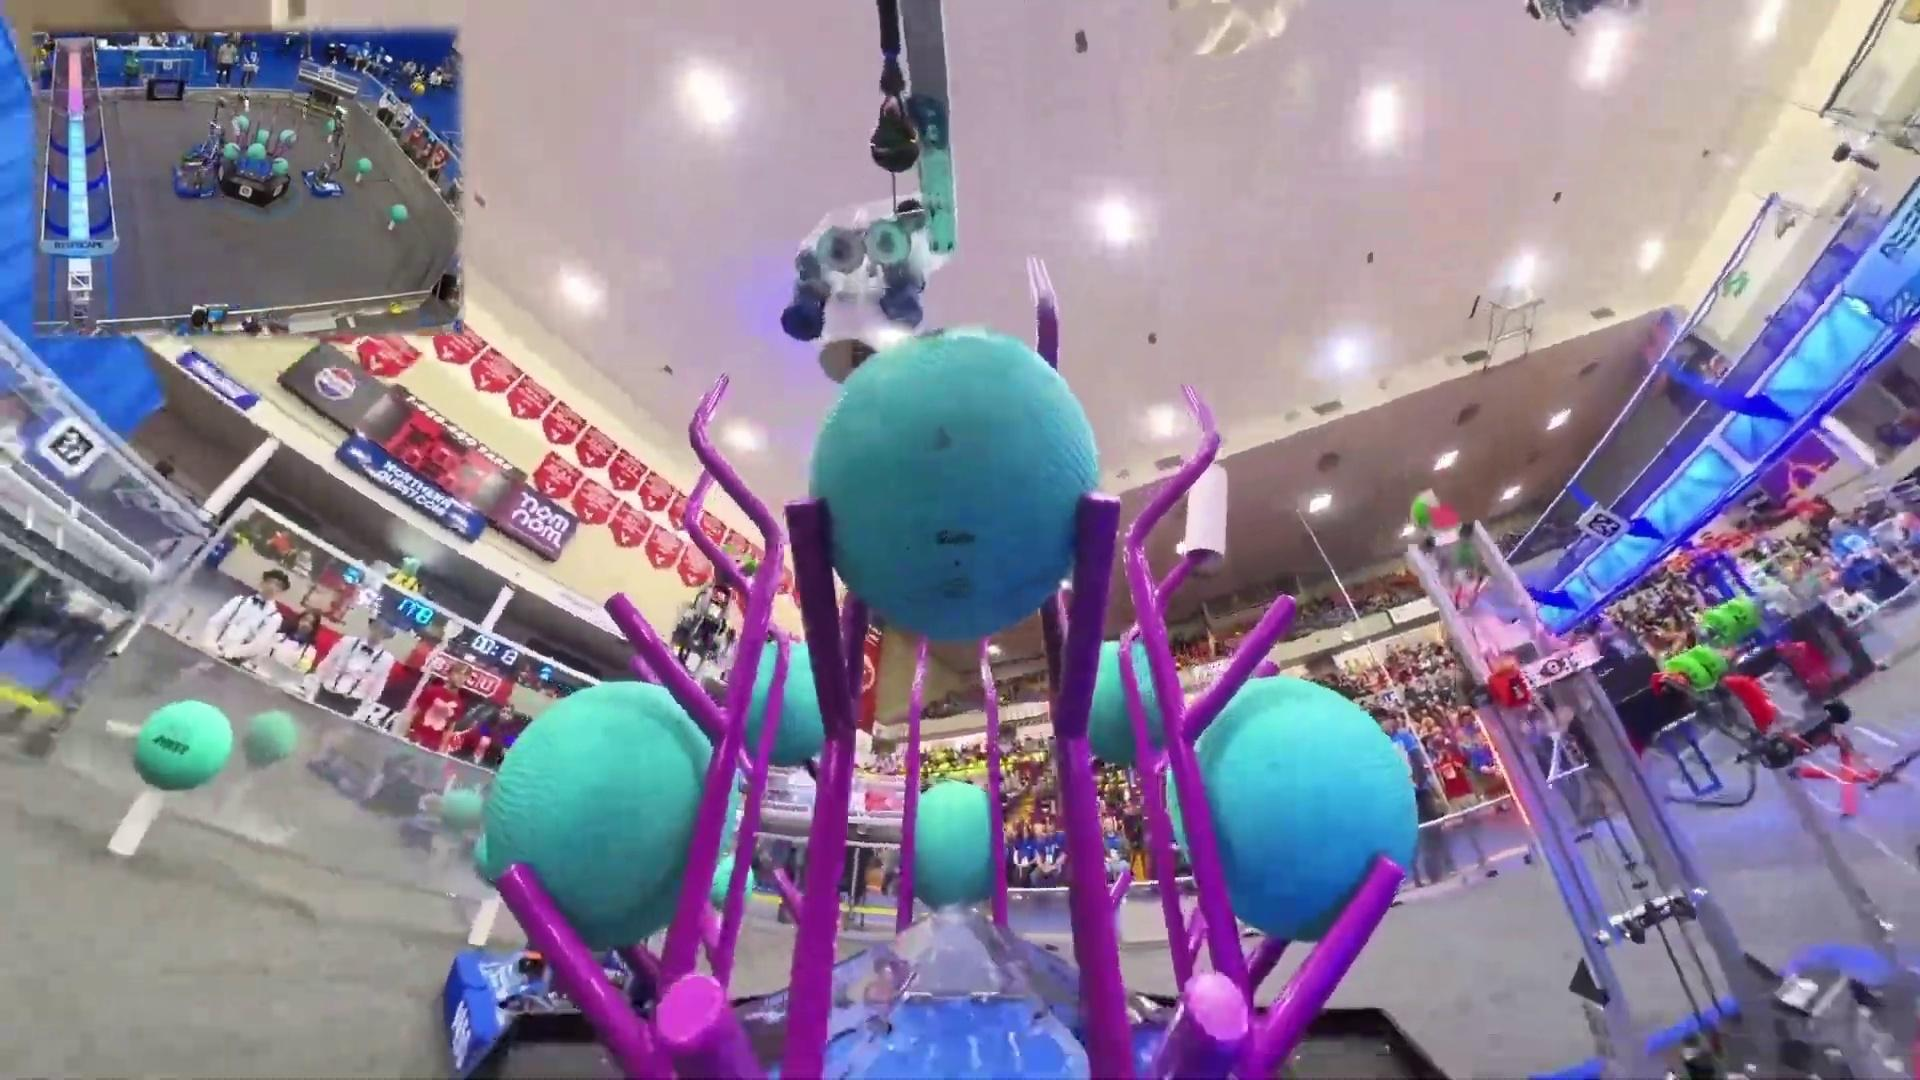robot: (1407, 479, 1920, 1080), (443, 951, 640, 1067), (302, 105, 347, 199), (171, 123, 222, 199), (187, 94, 225, 170)
